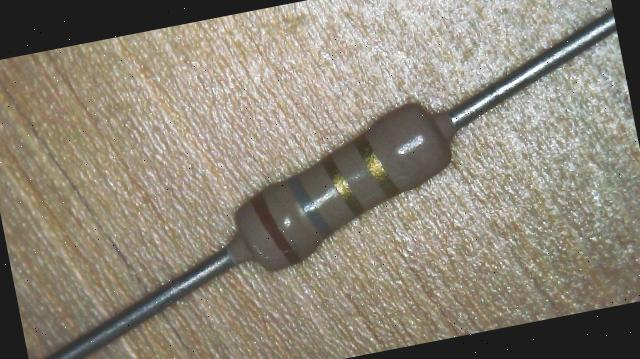brown: (250, 186, 302, 270)
gold: (352, 128, 399, 202), (320, 150, 364, 219)
grey: (286, 170, 332, 242)
resistor: (183, 58, 492, 320)
